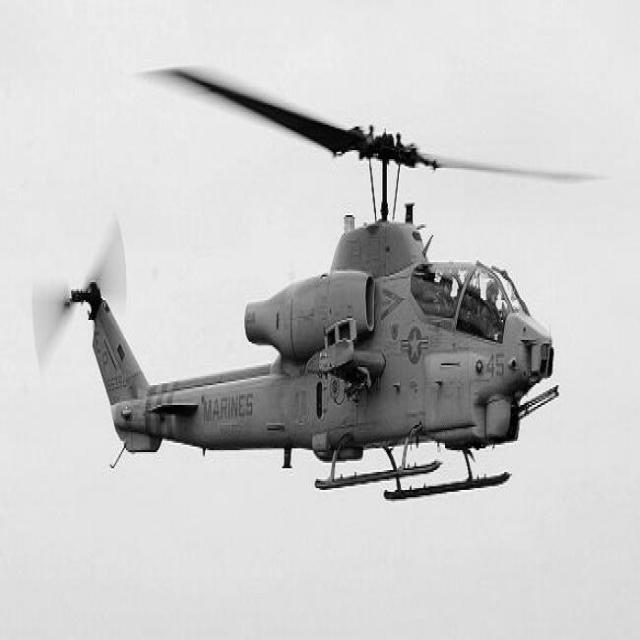Helicopter: (33, 69, 596, 500)
